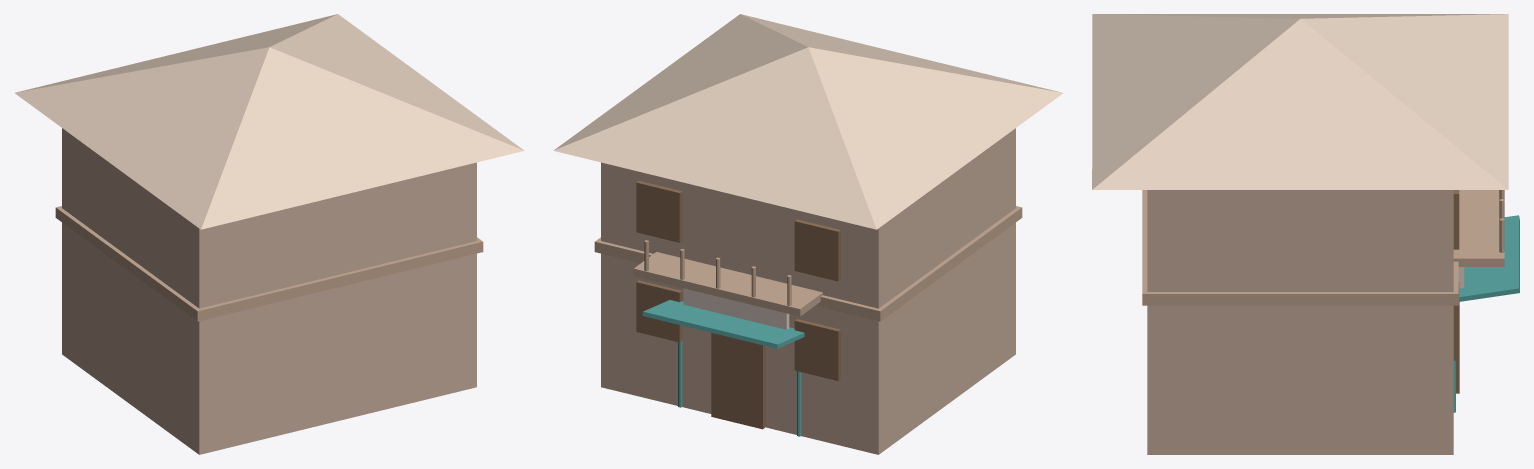
The model's file is nervix_merchanthouse.glb.
The picture shows the model from 3 angles, left to right: view 1: azimuth 30°, elevation 25°; view 2: azimuth 150°, elevation 25°; view 3: azimuth 270°, elevation 25°; orthographic projection. The views are drawn at different scales.
Visible parts, largest first — view 1: house, house_roof, house_band; view 2: house, house_roof, house_balcony, house_door, house_band, house_awning, house_w3_frame, house_w4_frame, house_w1_frame, house_w2_frame, house_sign; view 3: house, house_roof, house_band, house_balcony, house_awning, house_w2_frame.
Part boxes in pixels (x1=…): house: x1=62, y1=128, x2=476, y2=454; house_roof: x1=15, y1=14, x2=524, y2=229; house_band: x1=55, y1=206, x2=483, y2=321; house: x1=601, y1=128, x2=1015, y2=454; house_roof: x1=553, y1=14, x2=1063, y2=229; house_balcony: x1=633, y1=252, x2=822, y2=316; house_door: x1=711, y1=333, x2=765, y2=429; house_band: x1=594, y1=206, x2=1022, y2=321; house_awning: x1=642, y1=300, x2=804, y2=348; house_w3_frame: x1=794, y1=219, x2=840, y2=281; house_w4_frame: x1=636, y1=181, x2=682, y2=242; house_w1_frame: x1=794, y1=319, x2=840, y2=381; house_w2_frame: x1=636, y1=280, x2=682, y2=342; house_sign: x1=683, y1=288, x2=789, y2=329; house: x1=1147, y1=190, x2=1453, y2=454; house_roof: x1=1092, y1=14, x2=1508, y2=189; house_band: x1=1142, y1=190, x2=1458, y2=305; house_balcony: x1=1453, y1=190, x2=1504, y2=266; house_awning: x1=1459, y1=215, x2=1519, y2=301; house_w2_frame: x1=1453, y1=281, x2=1459, y2=360.
Bounding box in the file's own units: 8.17 × 7.8 × 8.38.
